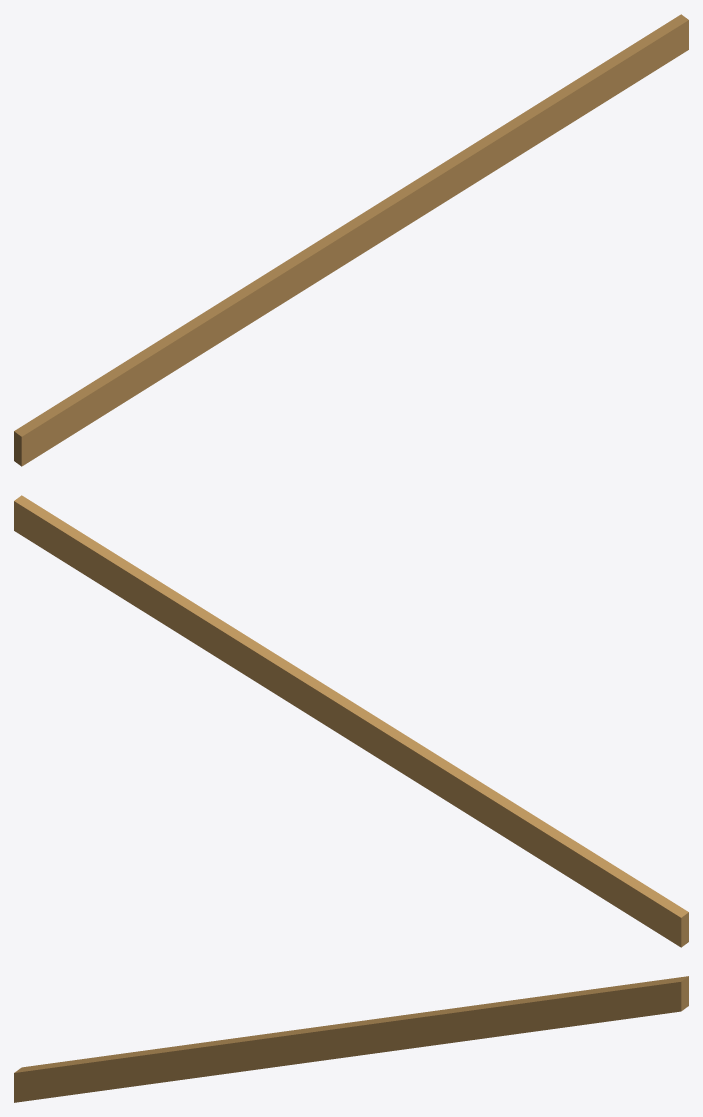
The picture shows the model from 3 angles, top to bottom: view 1: azimuth 30°, elevation 25°; view 2: azimuth 150°, elevation 25°; view 3: azimuth 330°, elevation 25°; orthographic projection.
Visible parts, largest first — view 1: L4-6-S3-3DD-M03; view 2: L4-6-S3-3DD-M03; view 3: L4-6-S3-3DD-M03.
Part boxes in pixels (x1,y1,x2,y2): L4-6-S3-3DD-M03: (14, 14, 688, 466); L4-6-S3-3DD-M03: (14, 495, 688, 947); L4-6-S3-3DD-M03: (14, 976, 688, 1102).
Bounding box in the file's own units: 2.23 × 0.9068 × 0.045.
